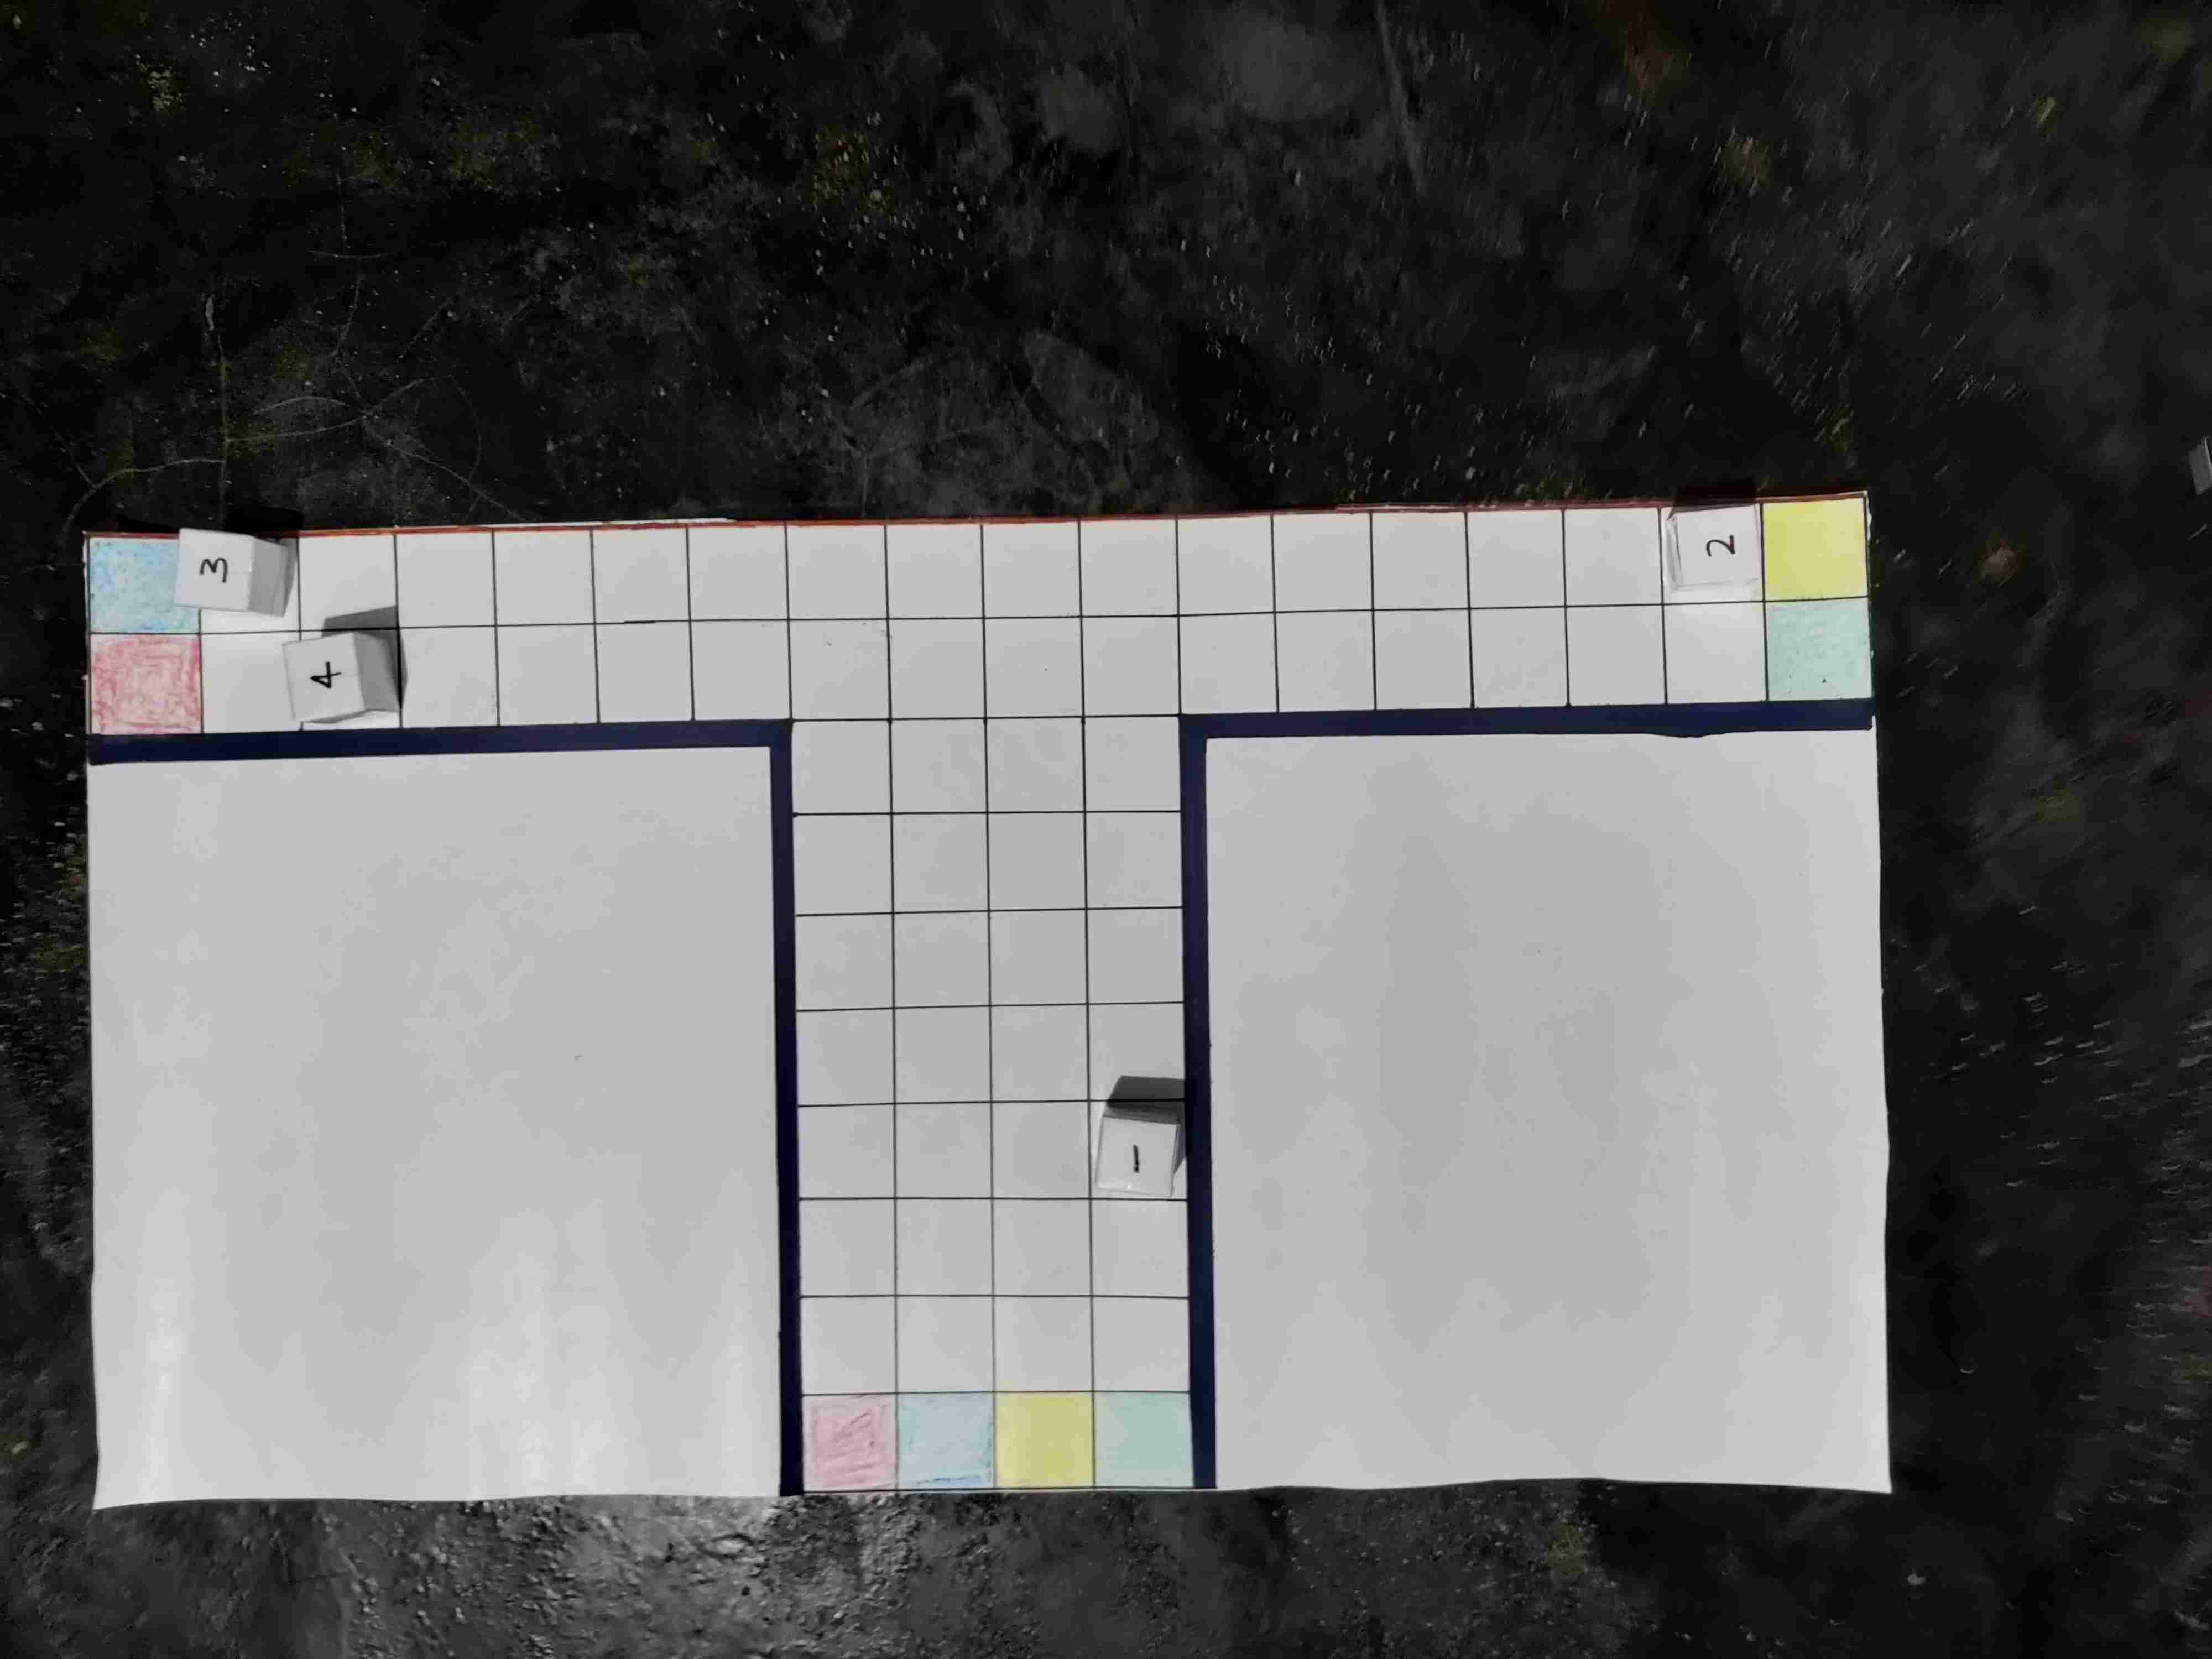arena: (82, 495, 1871, 1500)
bot: (1672, 505, 1764, 584), (287, 634, 364, 721), (178, 525, 256, 608), (1099, 1108, 1177, 1190)
